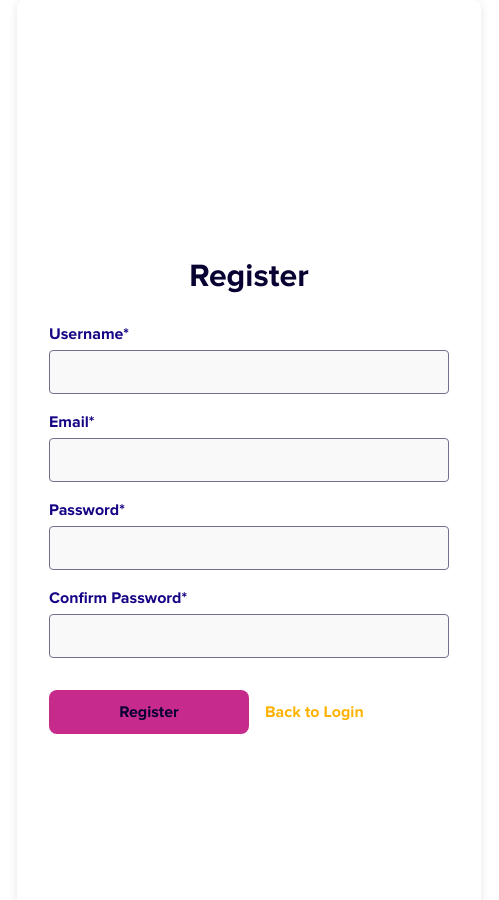
Test case: Register Component › clears errors when input is changed
Trigger validation error
Click the button "Register" at (149, 712), box [49,690,249,734]
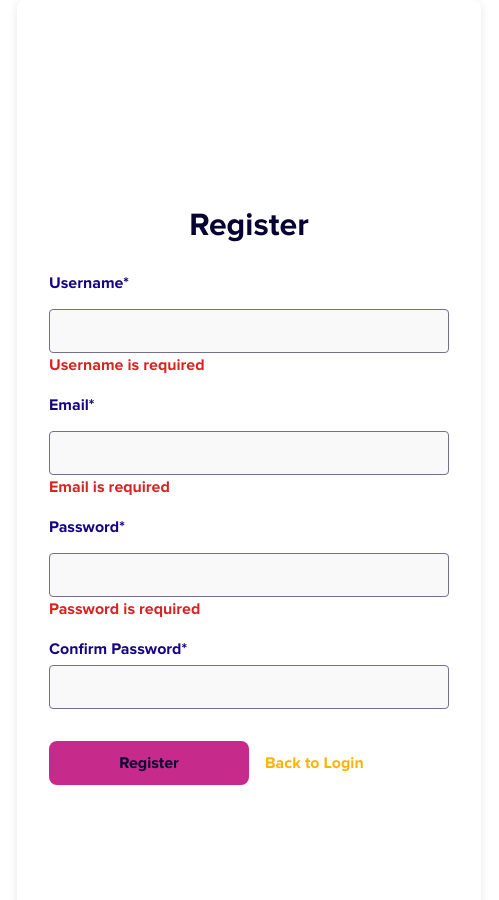
Result: the text "Username is required" is shown at [49,355,204,375]
Change input to clear error
Type "testuser" into the field labelled "Username*" at (249, 331), box [49,309,449,353]
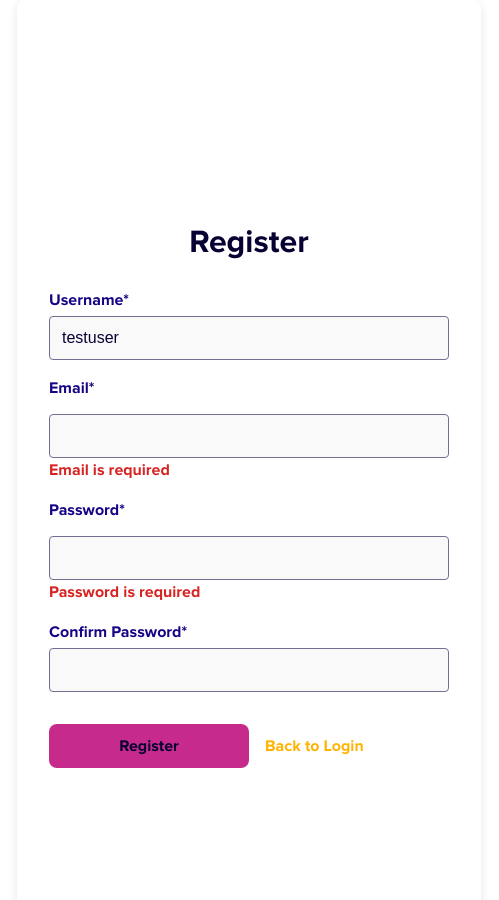
Result: the text "Username is required" is gone
